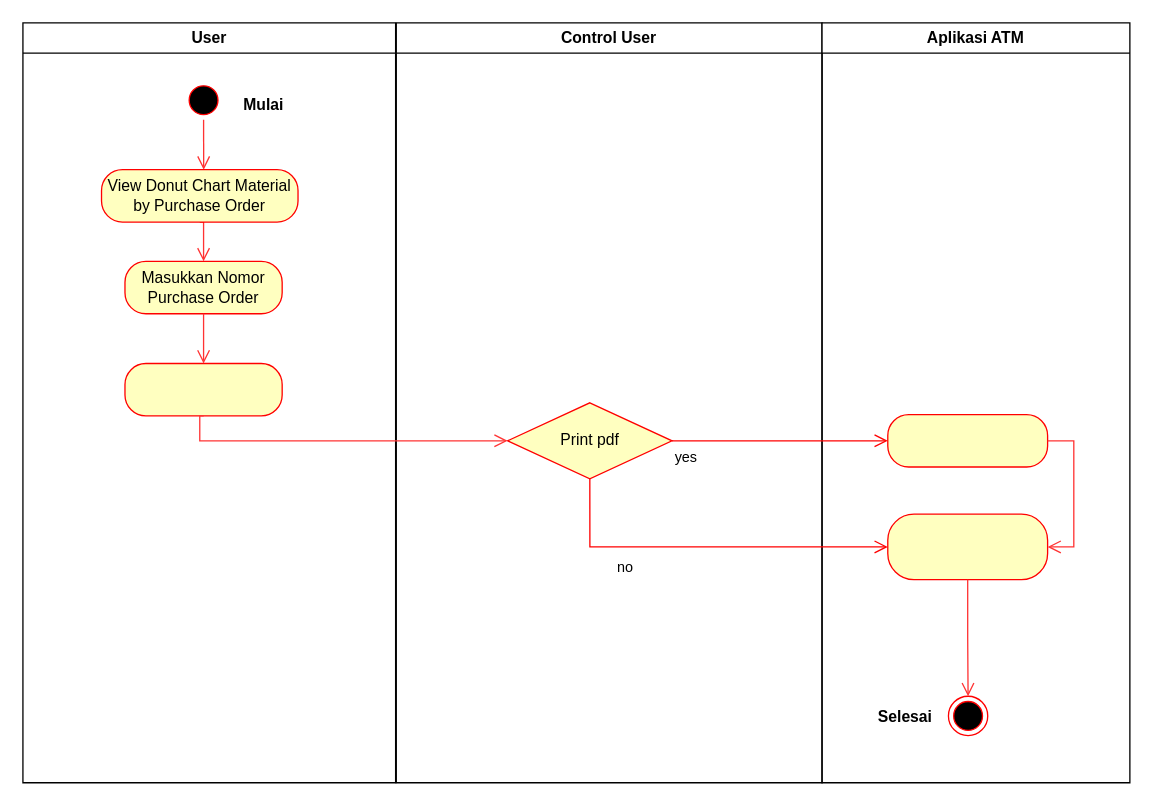
This 1153x806 diagram has some shape labels left out. Here are the shapes that lost their labels. From the top down, the centre of each, then its label:
At point (203, 389): "Cetak Chart".
At point (967, 440): "Cetak".
At point (967, 546): "Menu Donut Chart Material by Purchase Order".
